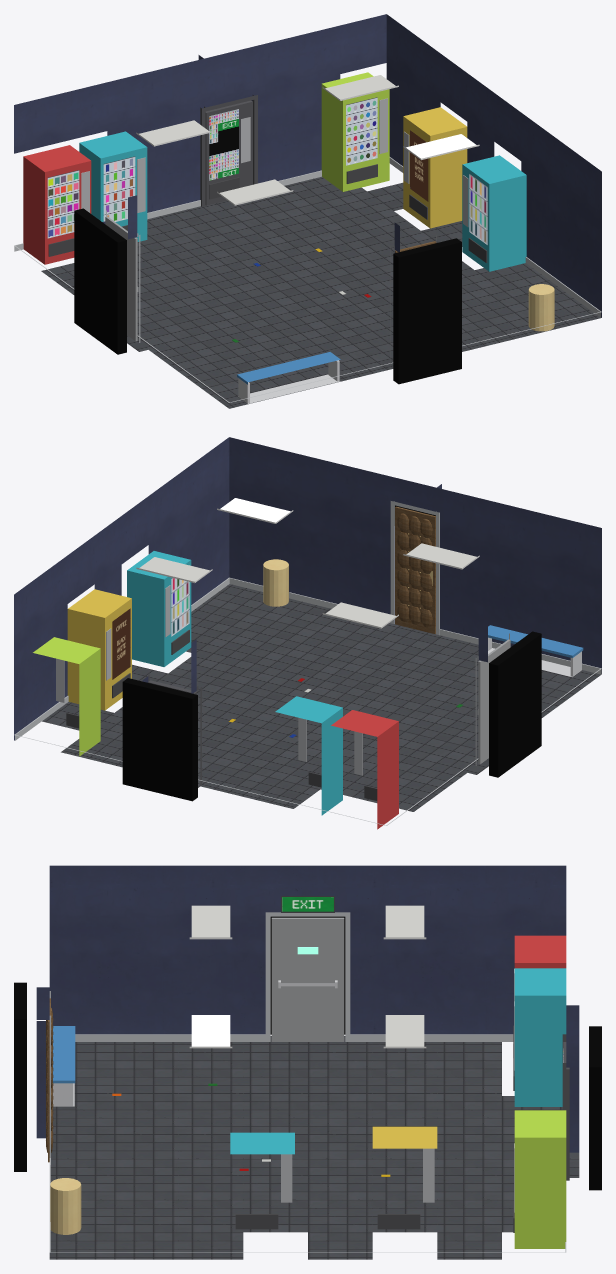
Rendered from rdwe_vending_room.glb.
The picture shows the model from 3 angles, top to bottom: view 1: azimuth 30°, elevation 25°; view 2: azimuth 150°, elevation 25°; view 3: azimuth 270°, elevation 25°; orthographic projection. The views are drawn at different scales.
Parts seen in each view (by area): view 1: Vinyl_Dark, Paint_Navy, Void_Black, Vend_Cyan, Vend_Glow, Vend_Sun, DoorLeaf_machine, Vend_Red, Vend_Acid, Lamp_Off, Trim_Steel, Vend_Panel (+8 smaller); view 2: Paint_Navy, Vinyl_Dark, Void_Black, Vend_Cyan, DoorLeaf_lift, Vend_Sun, Trim_Steel, Vend_Acid, Vend_Red, Lamp_Off, Vend_Glow, Vend_Panel (+7 smaller); view 3: Vinyl_Dark, Paint_Navy, DoorLeaf_real, Vend_Cyan, Vend_Acid, Void_Black, Trim_Steel, Lamp_Off, Vend_Red, Steel, Iron, Vend_Sun (+7 smaller).
Part boxes in pixels (x1,y1,x2,y2): Vinyl_Dark: (41, 176, 601, 408); Paint_Navy: (14, 14, 601, 317); Void_Black: (74, 208, 461, 384); Vend_Cyan: (79, 131, 526, 271); Vend_Glow: (47, 97, 487, 244); Vend_Sun: (403, 107, 467, 228); DoorLeaf_machine: (205, 100, 252, 205); Vend_Red: (23, 145, 91, 264); Vend_Acid: (321, 72, 389, 191); Lamp_Off: (139, 75, 395, 203); Trim_Steel: (14, 157, 601, 402); Vend_Panel: (81, 98, 468, 226); Paint_Navy: (14, 437, 601, 740); Vinyl_Dark: (42, 584, 600, 811); Void_Black: (122, 505, 541, 801); Vend_Cyan: (127, 551, 342, 815); DoorLeaf_lift: (395, 506, 435, 633); Vend_Sun: (67, 589, 131, 710); Trim_Steel: (14, 501, 601, 825); Vend_Acid: (33, 637, 100, 756); Vend_Red: (331, 710, 398, 829); Lamp_Off: (139, 543, 476, 626); Vend_Glow: (112, 578, 189, 679); Vend_Panel: (56, 585, 362, 775); Vinyl_Dark: (49, 1036, 579, 1259); Paint_Navy: (36, 865, 579, 1152); DoorLeaf_real: (271, 917, 344, 1041); Vend_Cyan: (230, 968, 566, 1154); Vend_Acid: (514, 1110, 566, 1248); Void_Black: (14, 916, 601, 1190); Trim_Steel: (49, 912, 566, 1252); Lamp_Off: (191, 905, 424, 1046); Vend_Red: (514, 935, 566, 968); Steel: (50, 1178, 81, 1234); Iron: (235, 896, 514, 1232); Vend_Sun: (372, 1126, 437, 1148).
Size of the model in its own units: 8.55 by 3.05 by 9.1.
25 materials, 8 textured.
